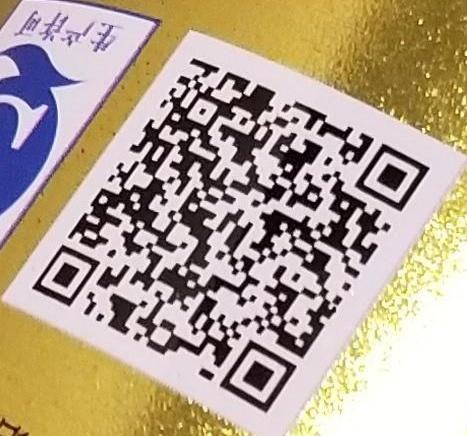qrcode: (33, 59, 433, 414)
